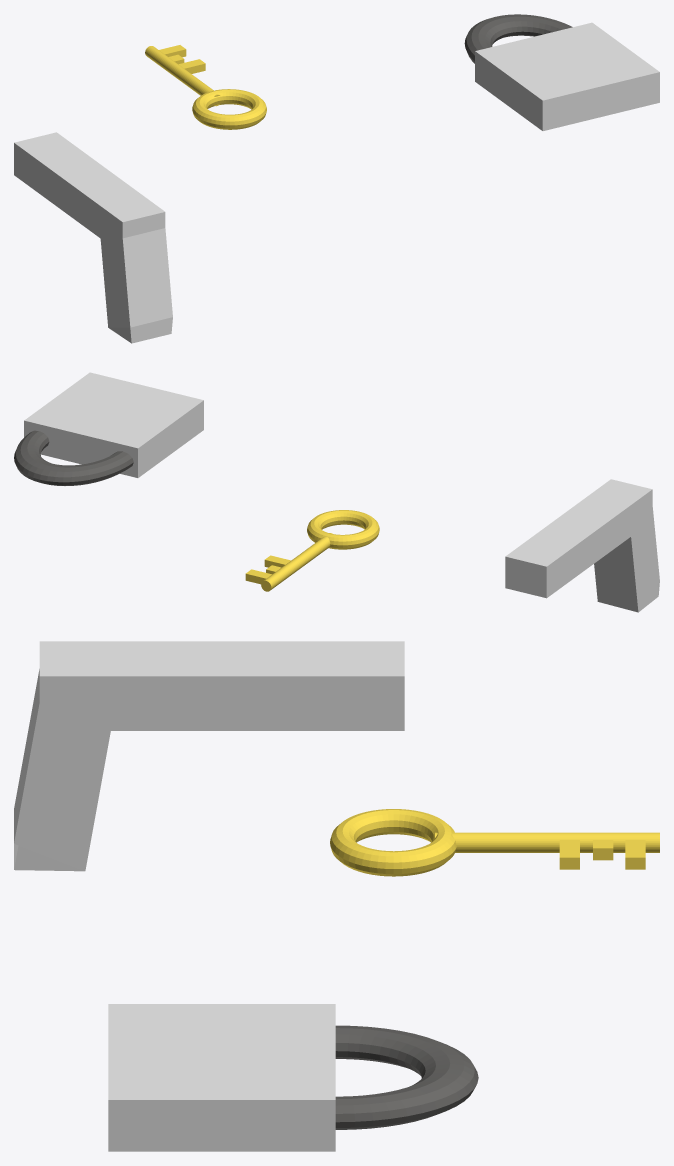
Rendered from ShootyAssets.dae.
3 renders of one model, top to bottom at view 1: azimuth 30°, elevation 25°; view 2: azimuth 150°, elevation 25°; view 3: azimuth 270°, elevation 25°, orthographic. The views are drawn at different scales.
Visible parts, largest first — view 1: Cube, Cube.004, Cylinder, Torus.001; view 2: Cube, Cube.004, Cylinder, Torus.001; view 3: Cube, Cube.004, Cylinder, Torus.001.
Part boxes in pixels (<box>): Cube: <box>14,132,172,343</box>; Cube.004: <box>475,22,659,130</box>; Cylinder: <box>145,45,266,129</box>; Torus.001: <box>464,14,572,63</box>; Cube: <box>505,479,659,612</box>; Cube.004: <box>24,372,203,477</box>; Cylinder: <box>245,510,379,591</box>; Torus.001: <box>14,430,133,485</box>; Cube: <box>14,641,404,871</box>; Cube.004: <box>108,1004,335,1151</box>; Cylinder: <box>330,809,659,876</box>; Torus.001: <box>335,1025,478,1129</box>.
Size of the model in its own units: 9.52 by 5.68 by 1.89.
